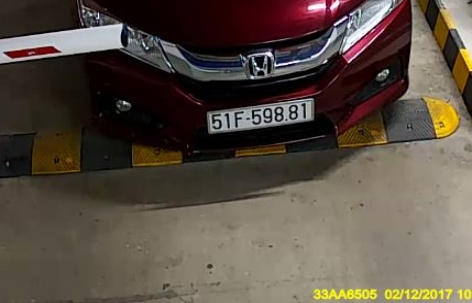plate: (207, 99, 314, 131)
